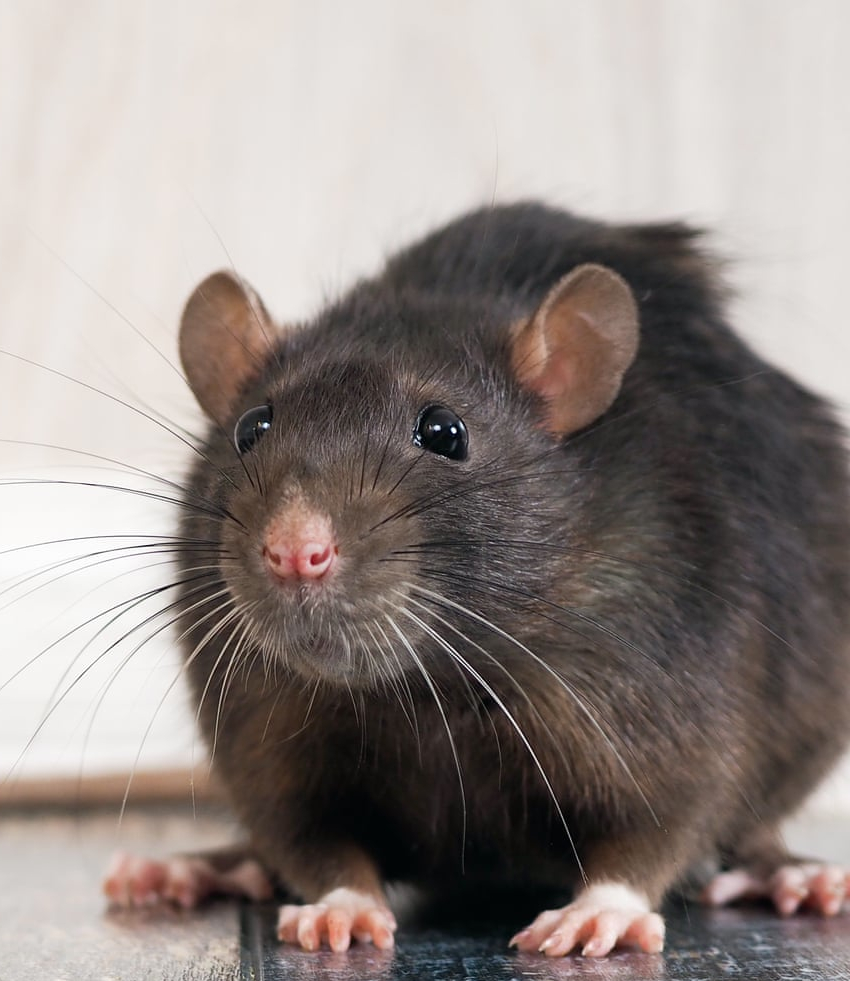rat: (67, 162, 848, 977)
